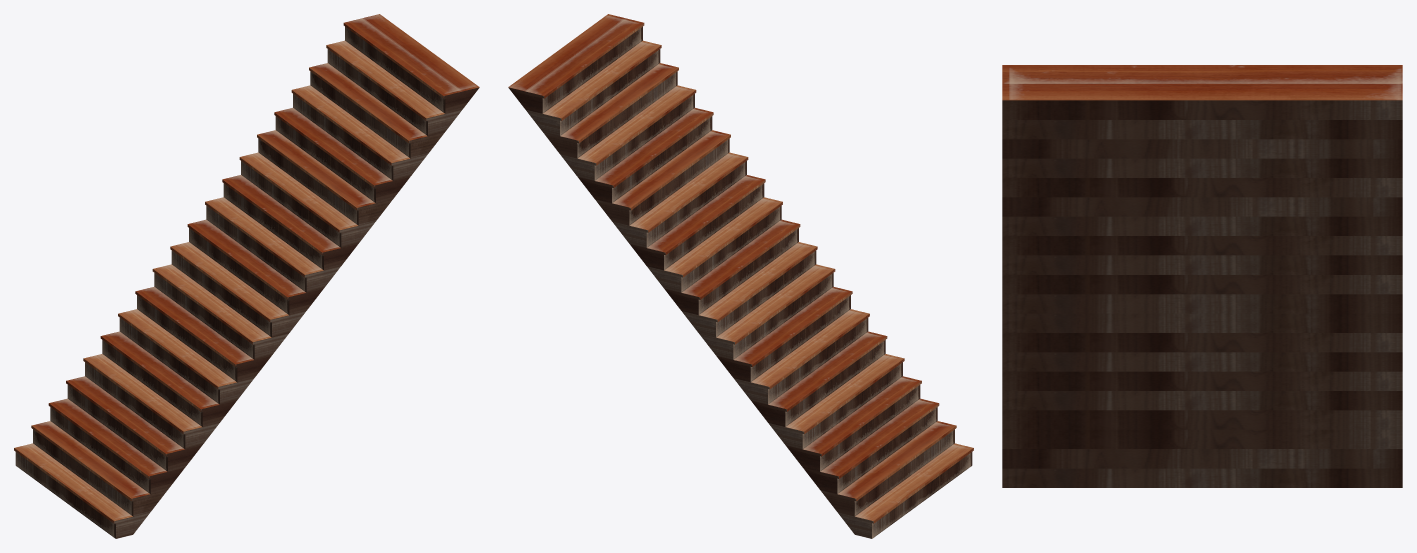
File: Stairs1.FBX
The picture shows the model from 3 angles, left to right: view 1: azimuth 30°, elevation 25°; view 2: azimuth 150°, elevation 25°; view 3: azimuth 270°, elevation 25°; orthographic projection. The views are drawn at different scales.
Parts seen in each view (by area): view 1: Stairs1; view 2: Stairs1; view 3: Stairs1.
Boxes of the visible parts, x1=… form: Stairs1: x1=14, y1=14, x2=479, y2=538; Stairs1: x1=508, y1=14, x2=973, y2=538; Stairs1: x1=1002, y1=65, x2=1402, y2=487.
Size of the model in its own units: 268 by 254 by 127.
